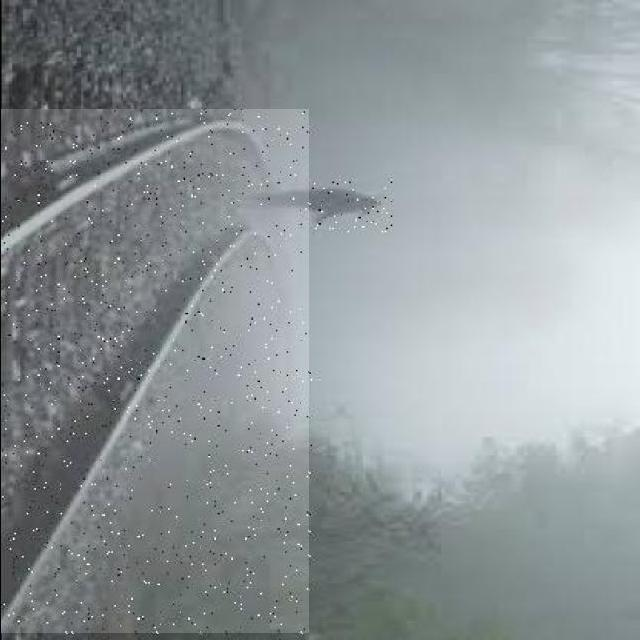rail: (2, 111, 310, 634)
